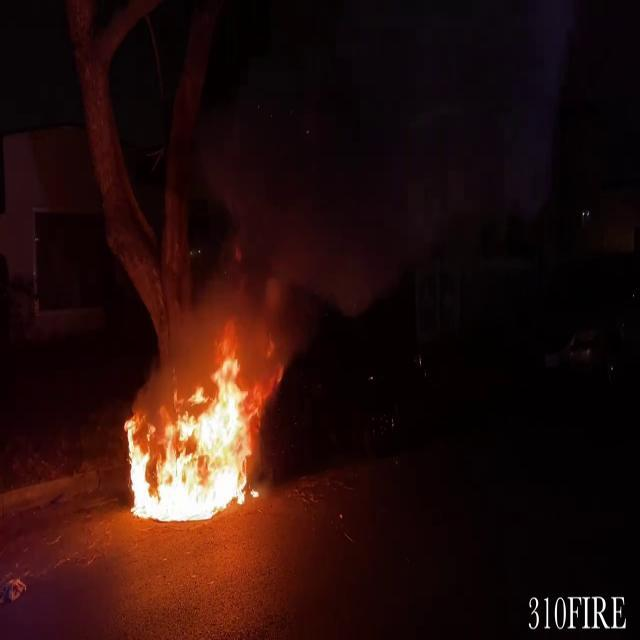Fire: (118, 339, 262, 527)
